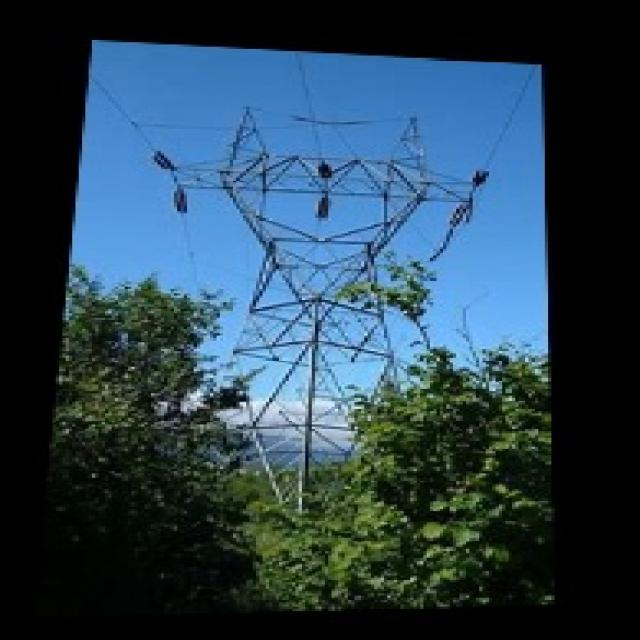utility poles: (149, 272, 297, 498), (330, 259, 498, 439)
